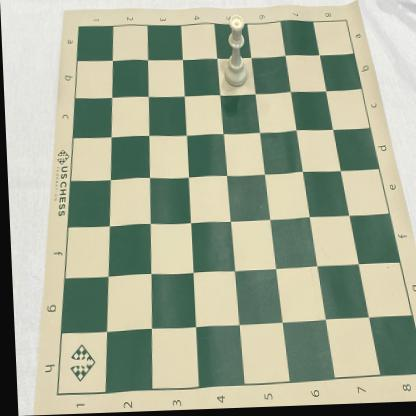white-queen: (221, 16, 248, 90)
